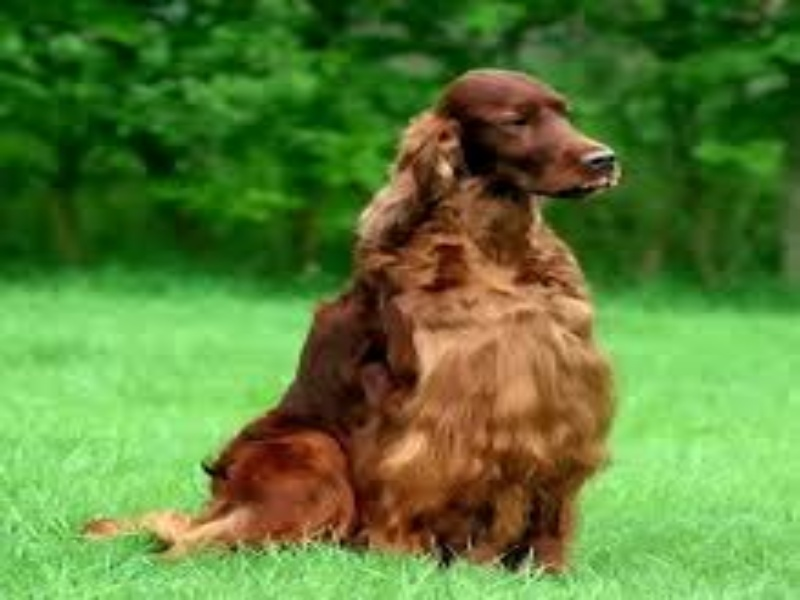dog: (205, 63, 626, 582)
